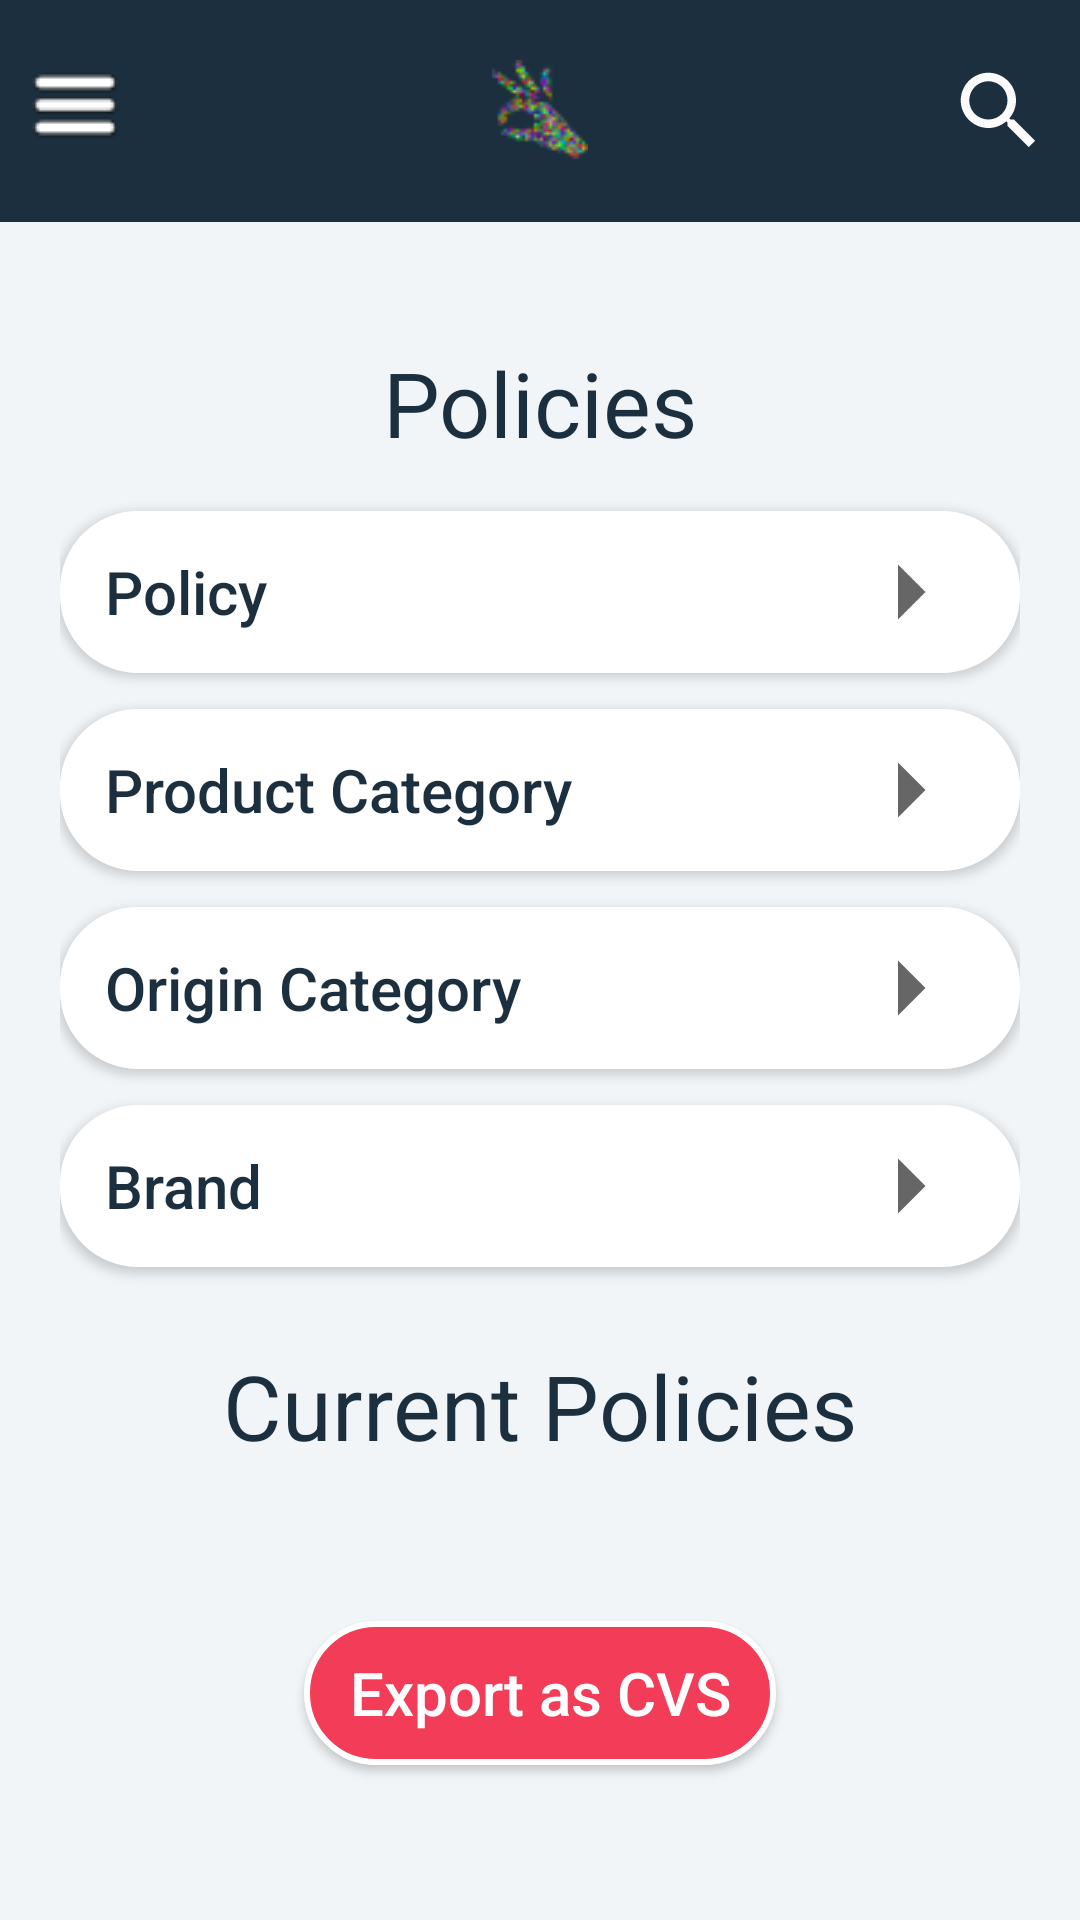

Named icons in this screenshot (1080px×1920px) and their centers, [x,y]:
hamburger: [74,104]
ok hand: [540,109]
search: [997,109]
